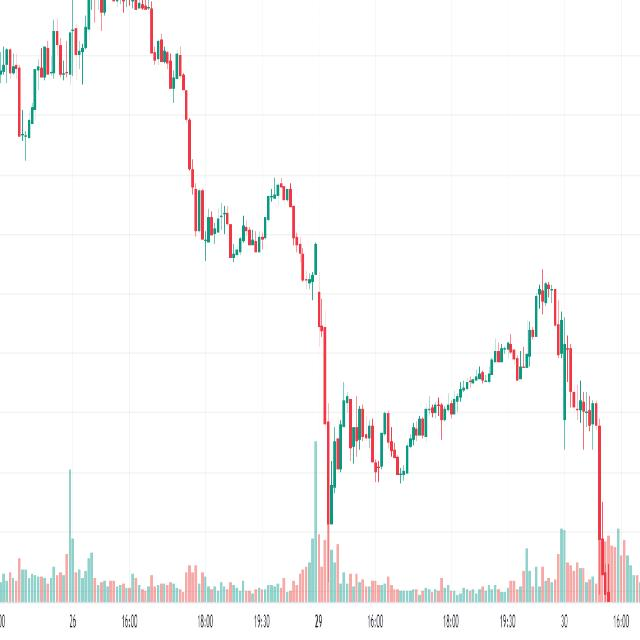Head-Shoulders: (488, 254, 607, 524), (236, 161, 335, 447)
